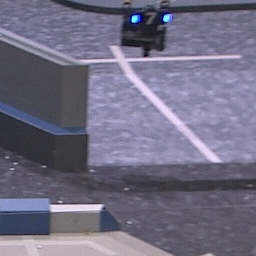Blue: (130, 11, 170, 26)
Robot: (121, 1, 168, 57)
